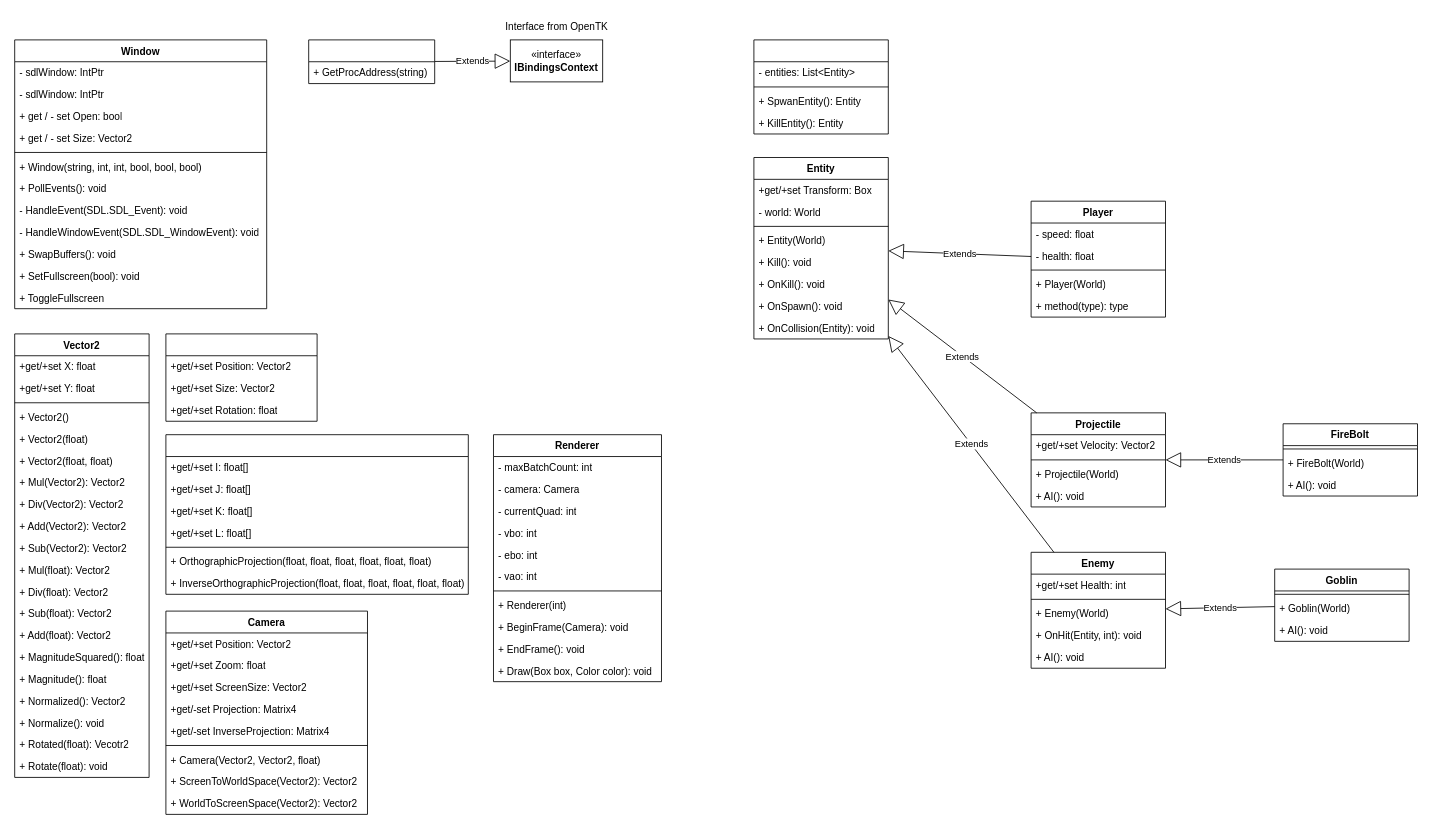
The diagram is 1432 pixels wide and 831 high, and some of its shapes have lost their labels. The box of each missing label's shape, as (x1, y1, x2, y2) in pixels:
Box: (165, 333, 317, 421)
Matrix4: (165, 434, 468, 594)
SDLGLLoader: (308, 39, 435, 84)
Wolrd: (753, 39, 888, 134)
